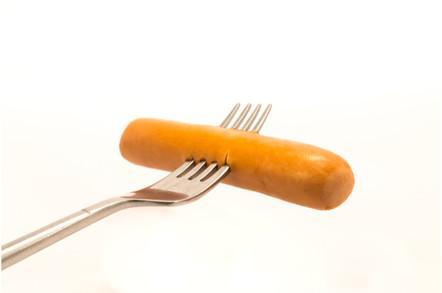Fork: (1, 103, 272, 271)
